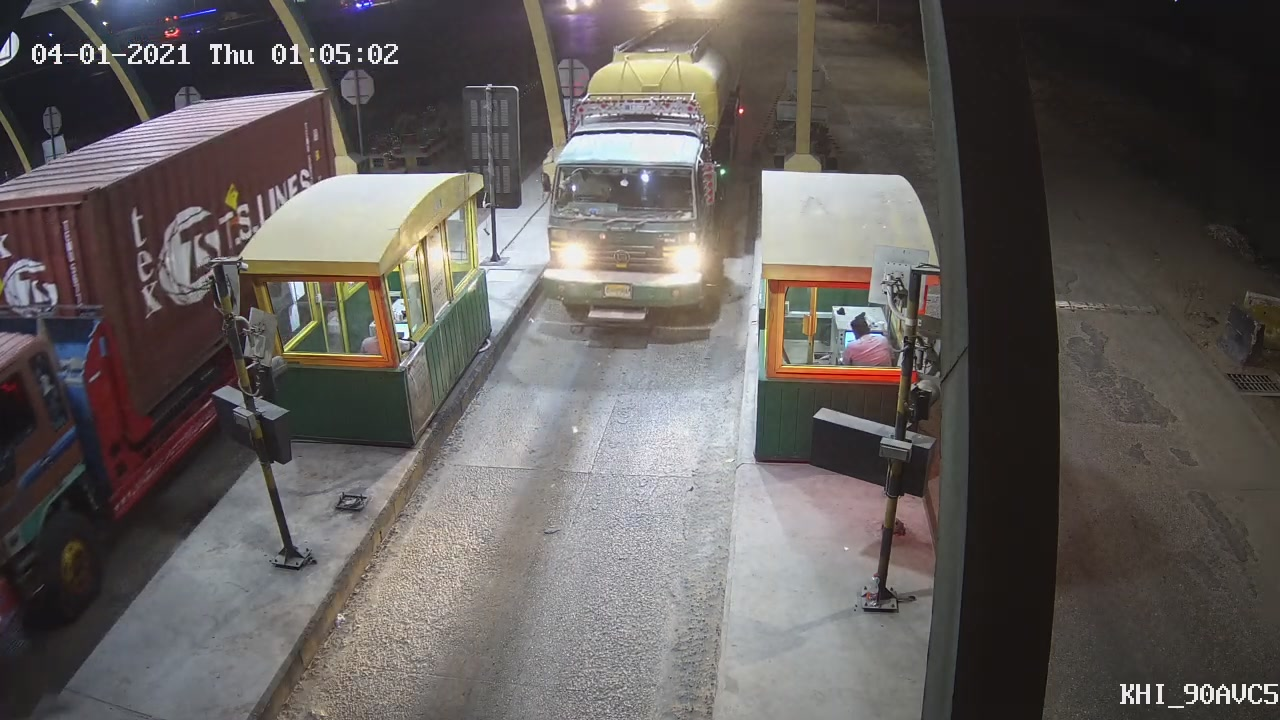F5: (528, 39, 735, 361)
